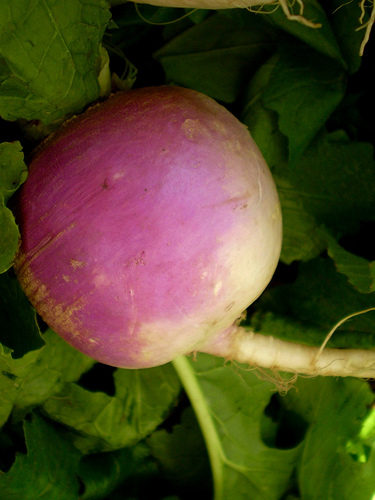turnip: (13, 87, 285, 372)
